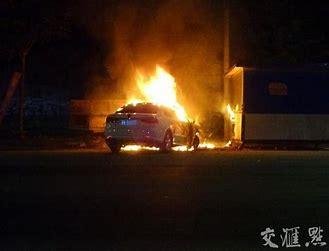smoke: (126, 63, 199, 124), (120, 137, 233, 153), (218, 98, 241, 125)
